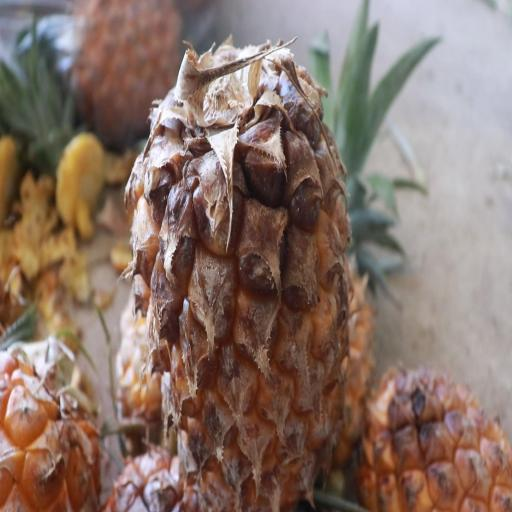Pineapple - v8 v1: (124, 34, 353, 512), (361, 359, 512, 512)
